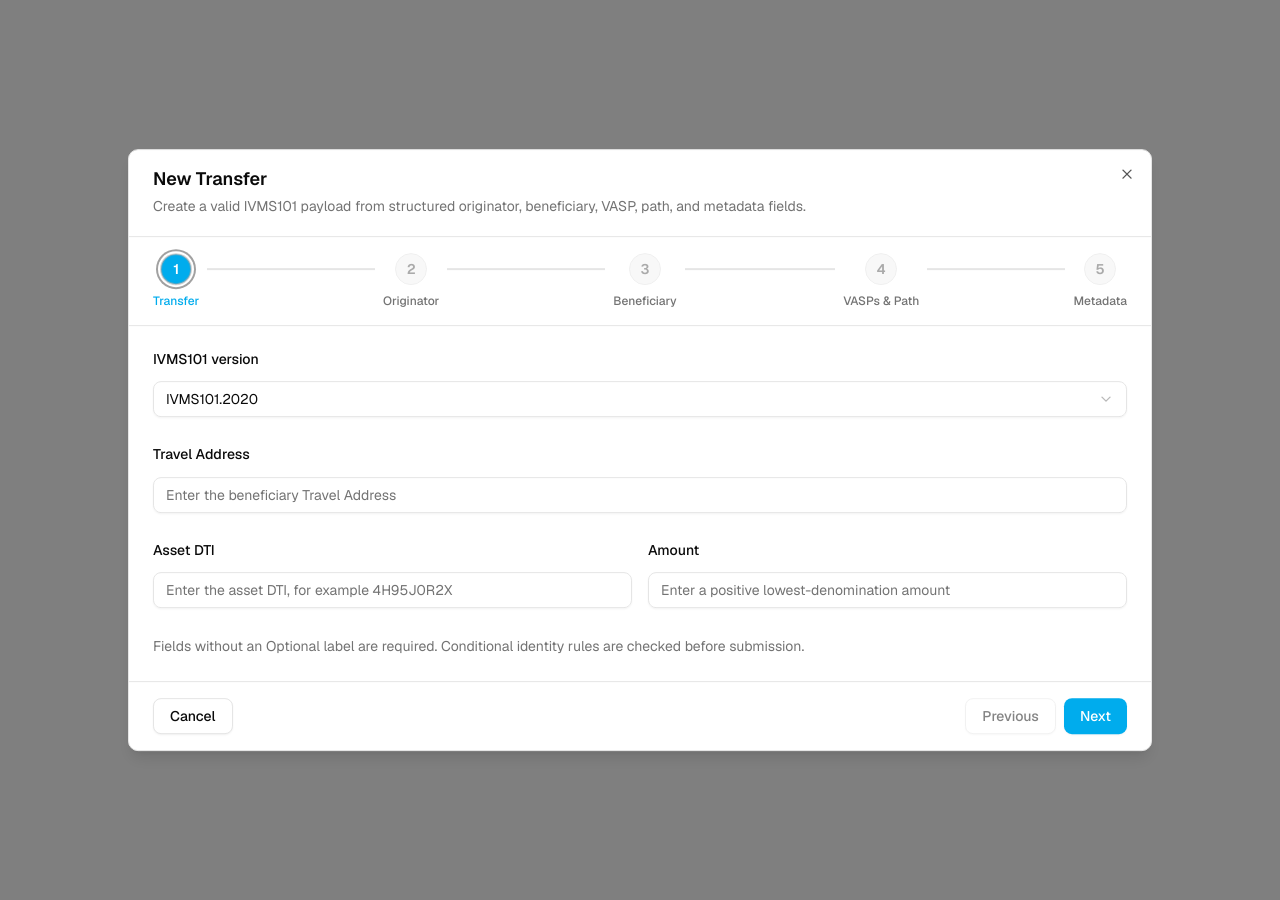
Scenario: keeps address and national identification titles beside their remove actions
Type "ta.example/address" into the field labelled "Travel Address".
click(640, 495); type("ta.example/address")  # box [153,477,1127,513]
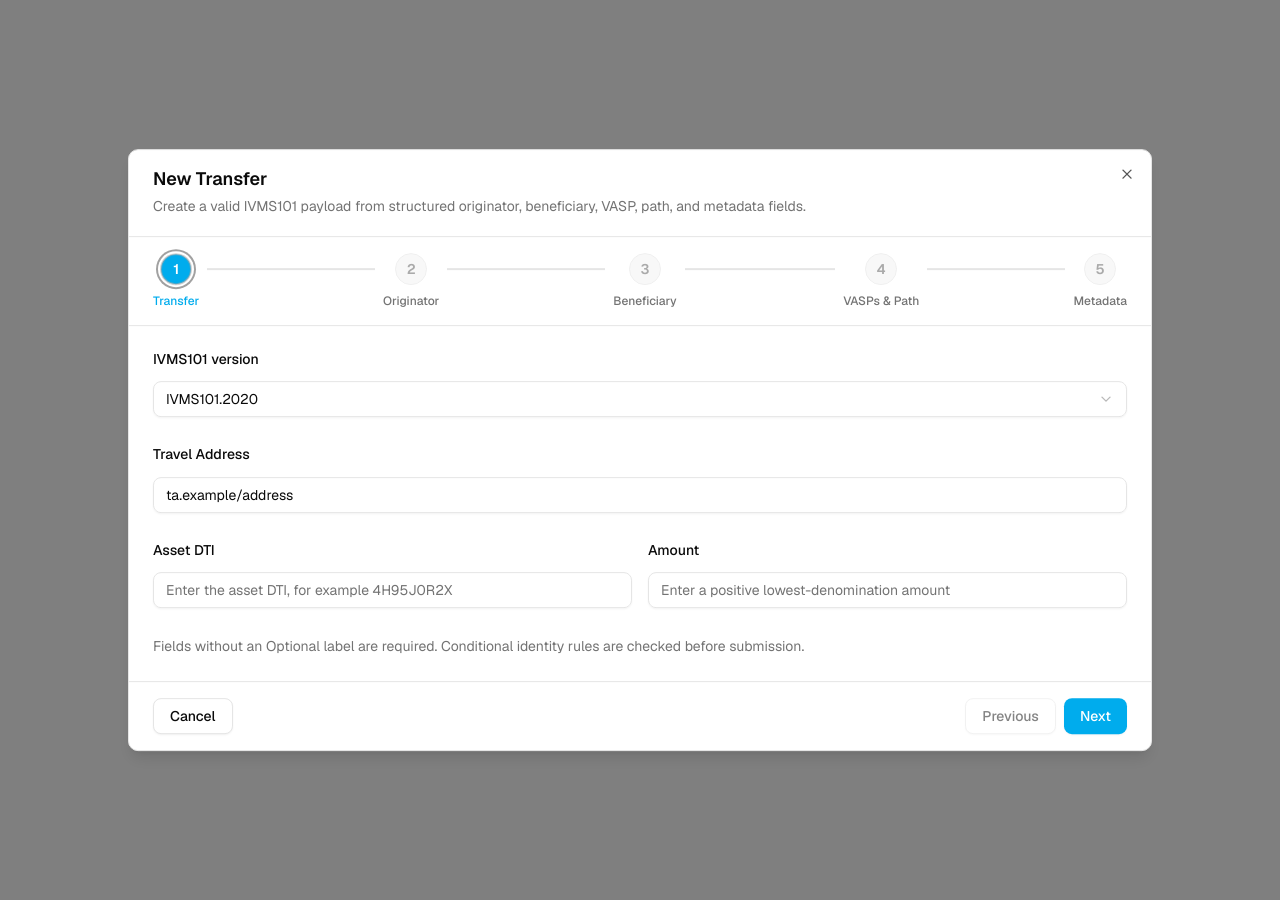
Type "4H95J0R2X" into the field labelled "Asset DTI".
click(392, 590); type("4H95J0R2X")  # box [153,572,632,608]
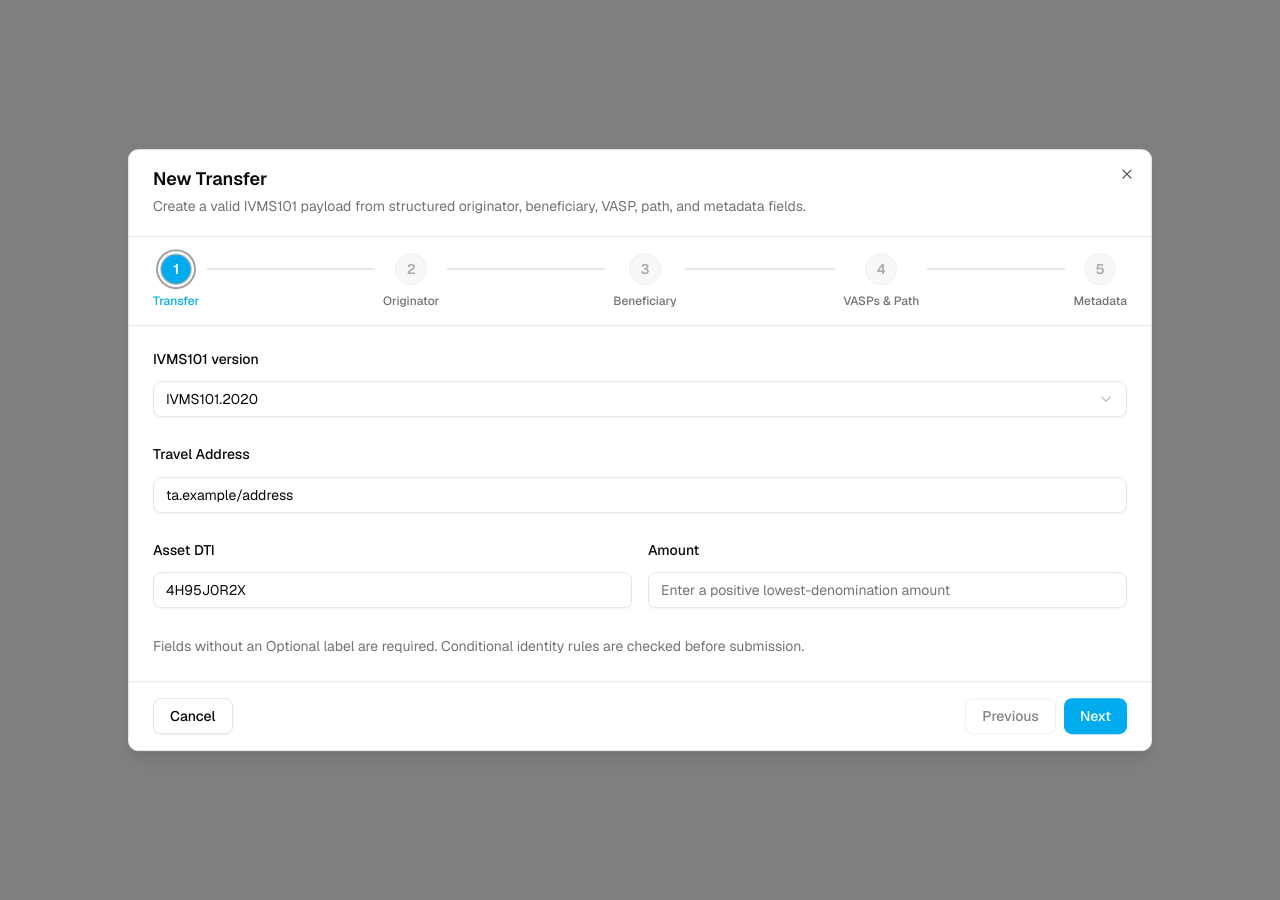
Type "25" into the field labelled "Amount".
click(888, 590); type("25")  # box [648,572,1127,608]
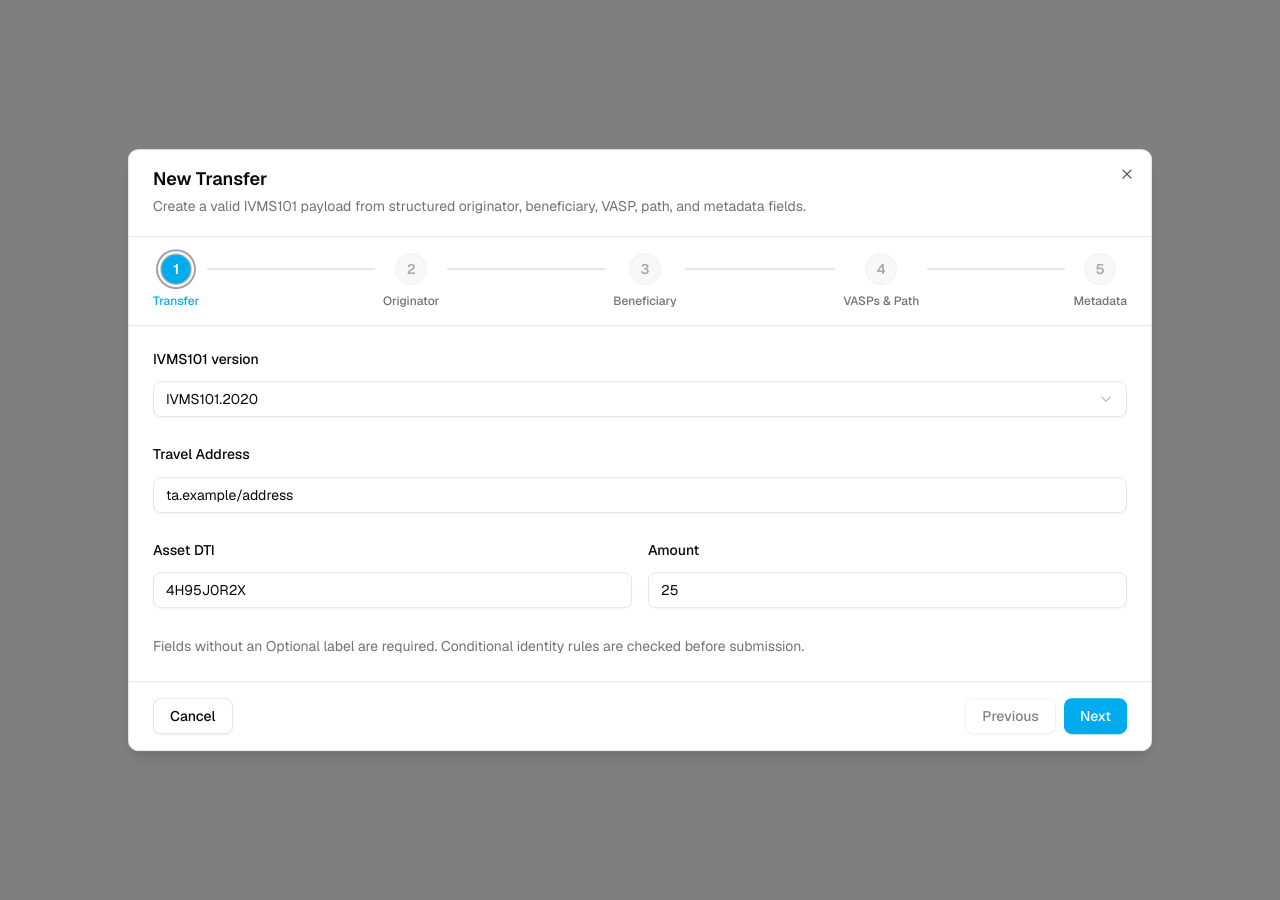
Click the button "Next".
click(1095, 716)  # box [1064,698,1127,734]
(page scrolled)
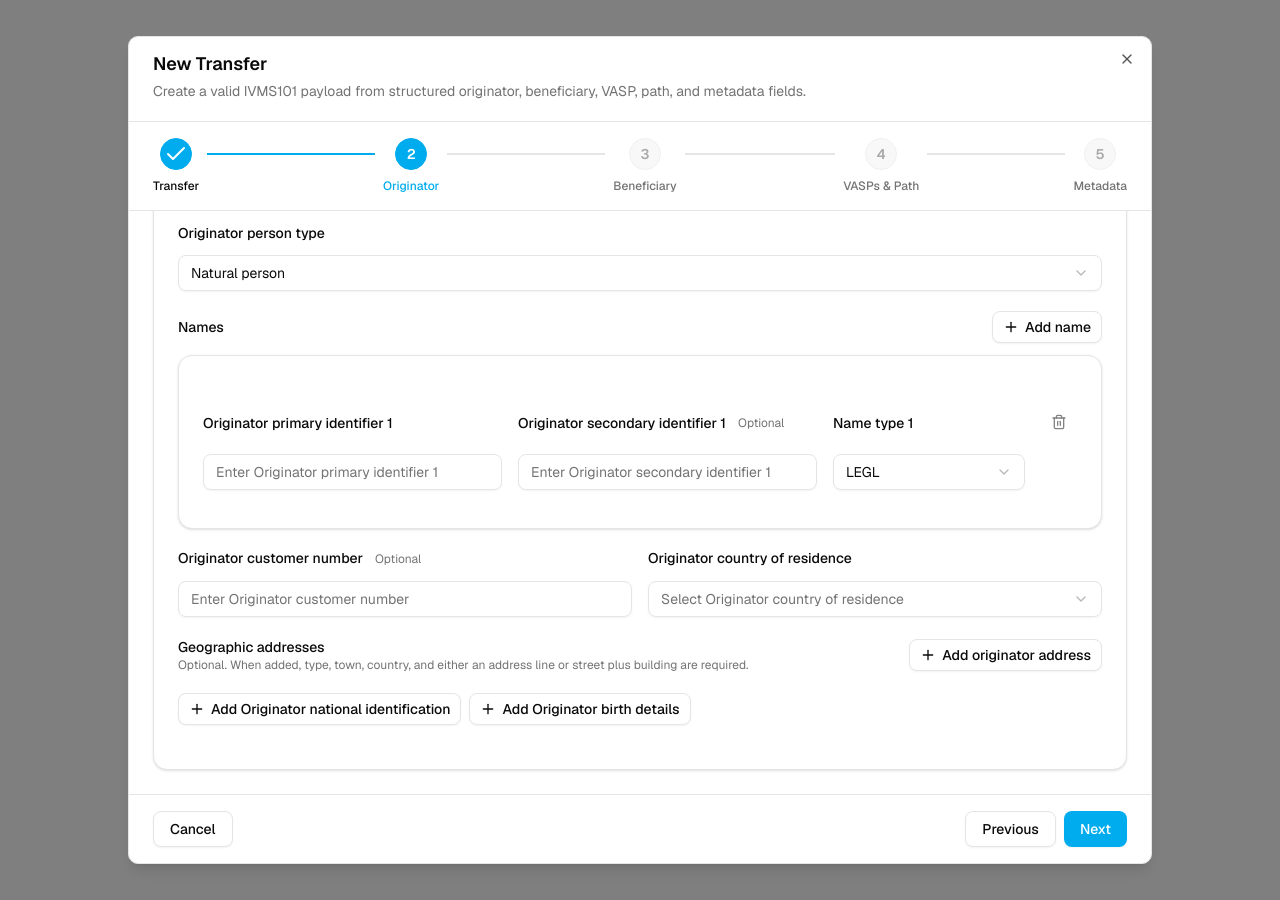
Click the button "Add originator address".
click(1006, 654)  # box [909,638,1102,670]
(page scrolled)
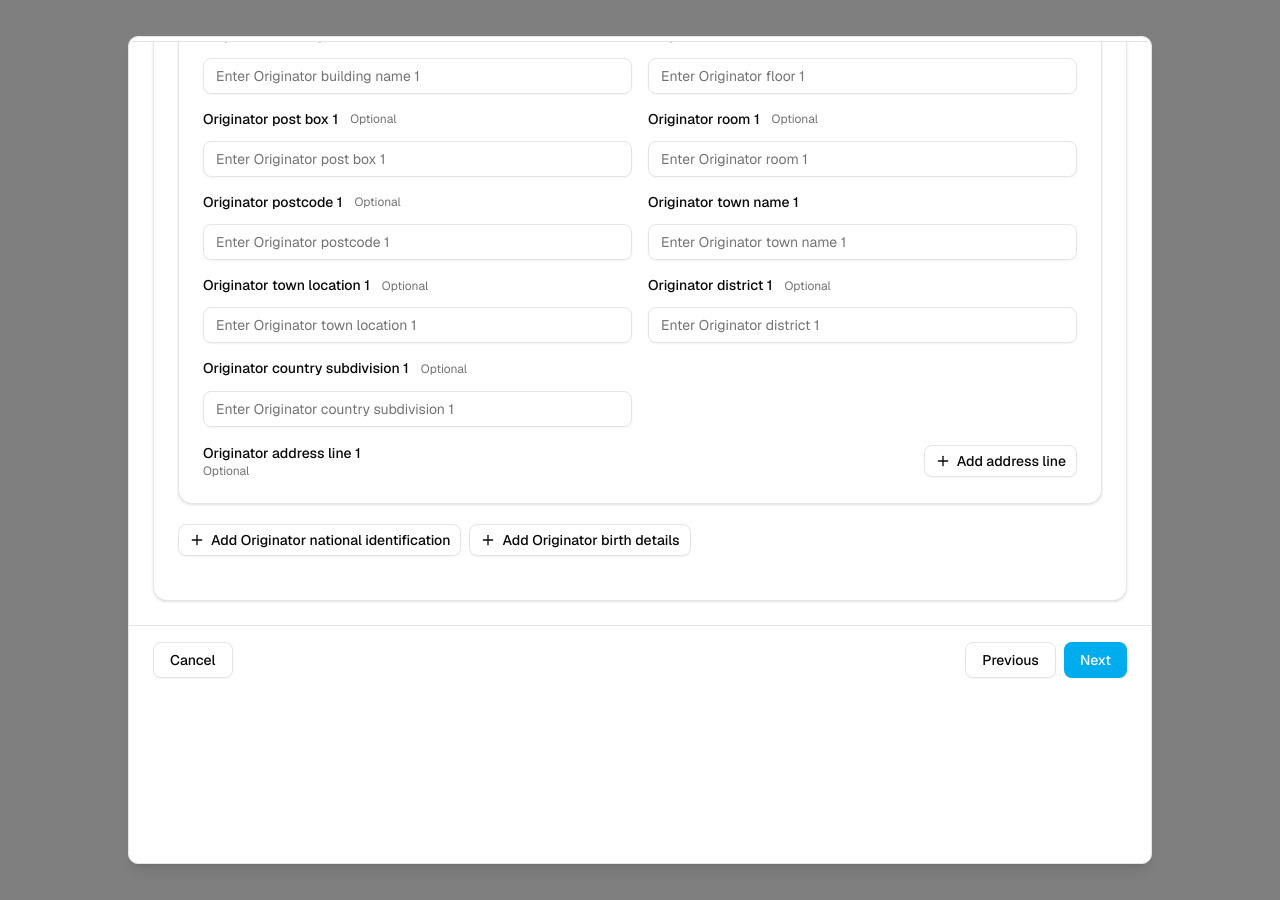
Click the button "Add Originator national identification".
click(320, 540)  # box [178,524,462,556]
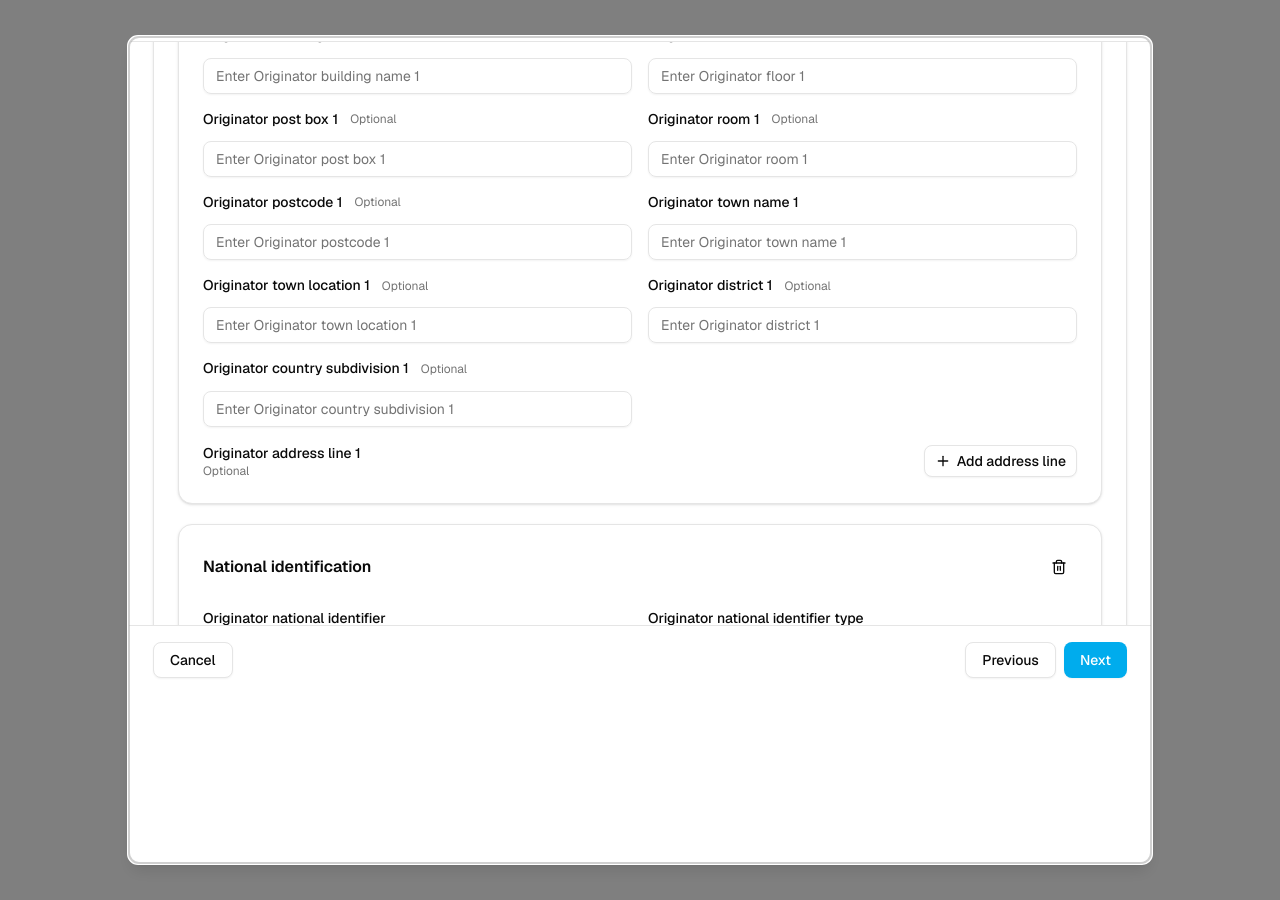
Now the button named "Remove Originator national identification" is shown, box [1041,548,1077,584]
